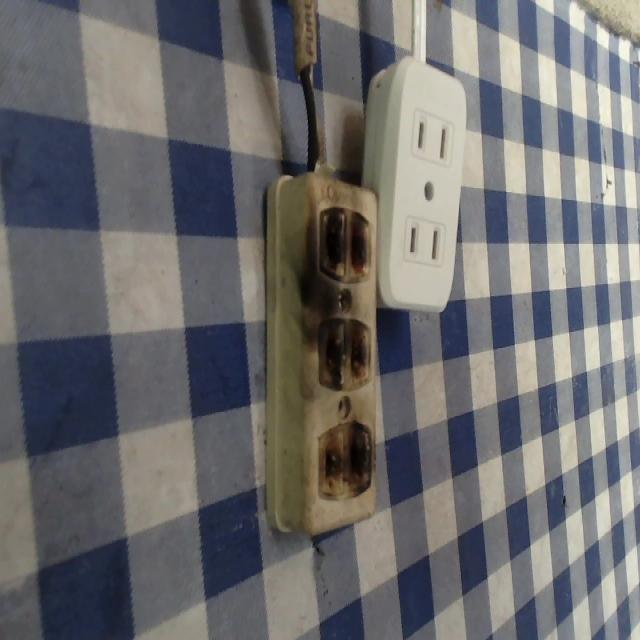-: (318, 196, 385, 289), (310, 415, 374, 508), (315, 318, 376, 398)
